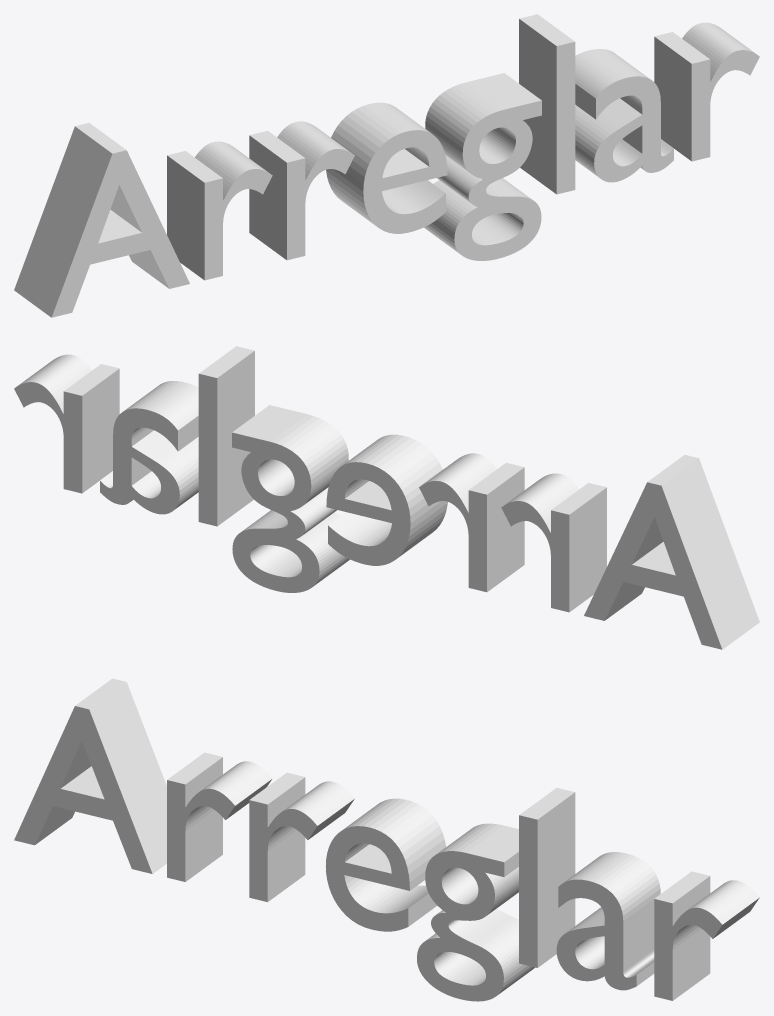
File: Texto Arreglar Etiqueta.fbx
3 views of the same model, one above another, from view 1: azimuth 30°, elevation 25°; view 2: azimuth 150°, elevation 25°; view 3: azimuth 330°, elevation 25° (orthographic).
Visible parts, largest first — view 1: Text; view 2: Text; view 3: Text.
Part boxes in pixels (box(x1,y1,x2,y2)): Text: box(14, 14, 759, 317); Text: box(14, 346, 759, 649); Text: box(14, 678, 759, 1001).
Bounding box in the file's own units: 341 × 91.6 × 31.3.
Materials: 1 (1 with a texture image).
